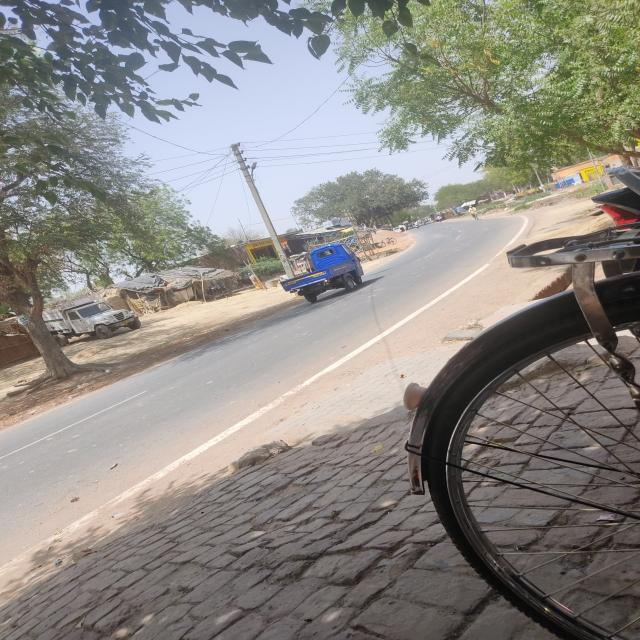Bike: (584, 160, 640, 272), (206, 284, 230, 298), (414, 221, 419, 229), (422, 219, 427, 224), (425, 218, 429, 223)
Car: (392, 226, 402, 233)
Truck: (27, 293, 143, 347), (430, 214, 443, 222)
tempo: (278, 241, 369, 303)
